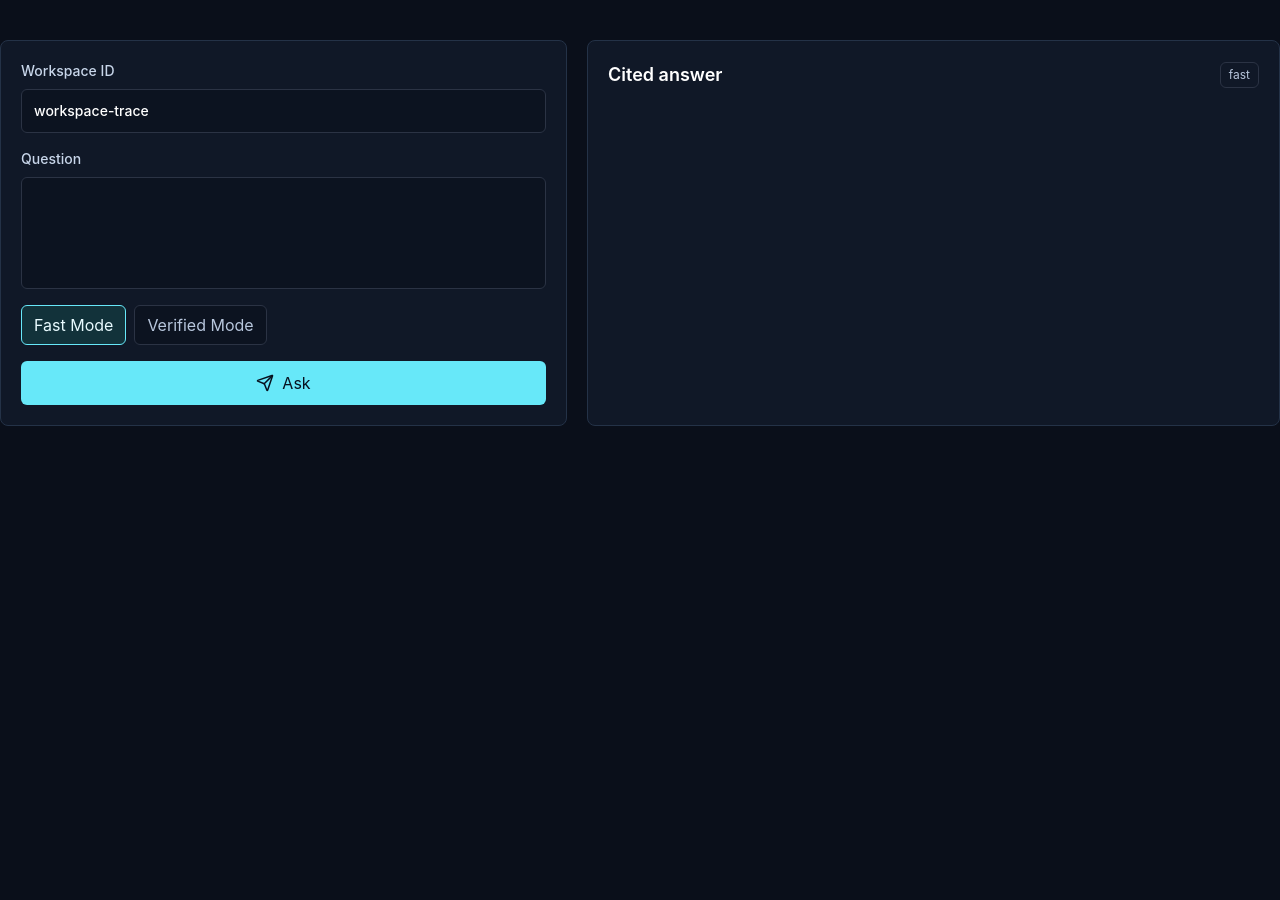
Test case: loads persisted retrieval candidates for the trace panel
In the text box labelled "Question": (284, 233) [21,177,546,289], type "Show candidates?"
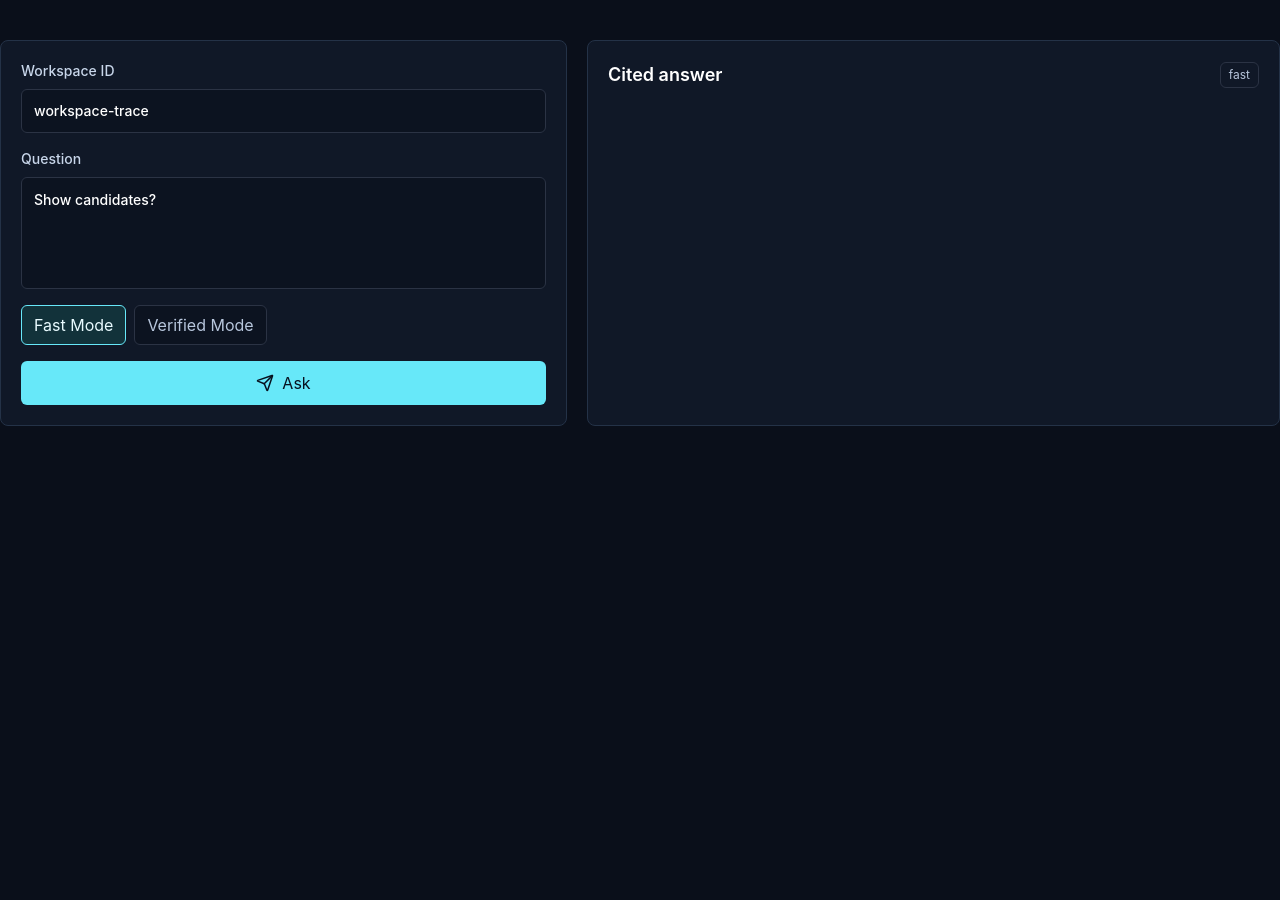
Click the button "Ask": (284, 383) [21,361,546,405]
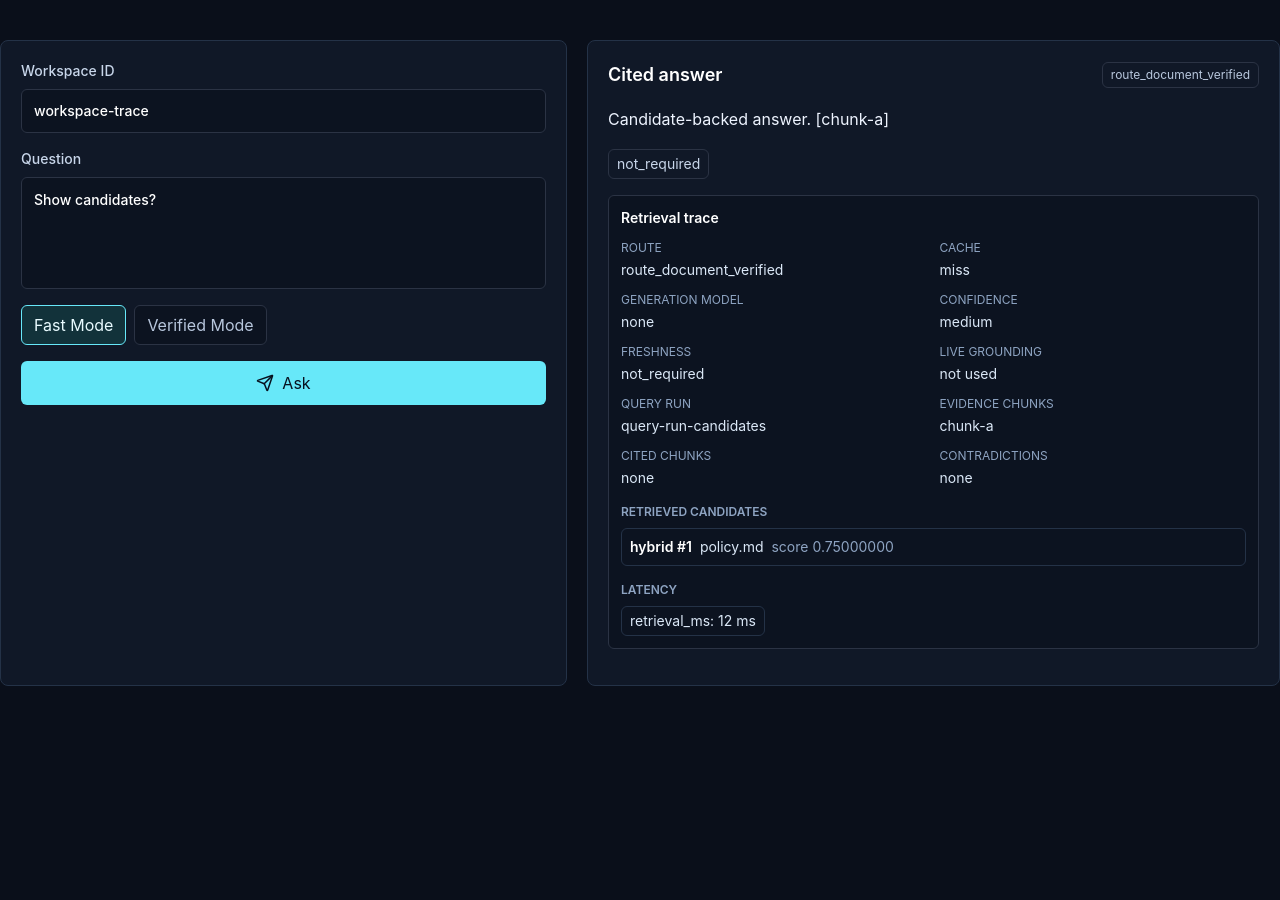
Result: the heading "Retrieved candidates" is shown at [621,504,767,519]
Result: the text "hybrid #1" is shown at [630,538,692,555]
Result: the text "policy.md" is shown at [700,538,764,555]
